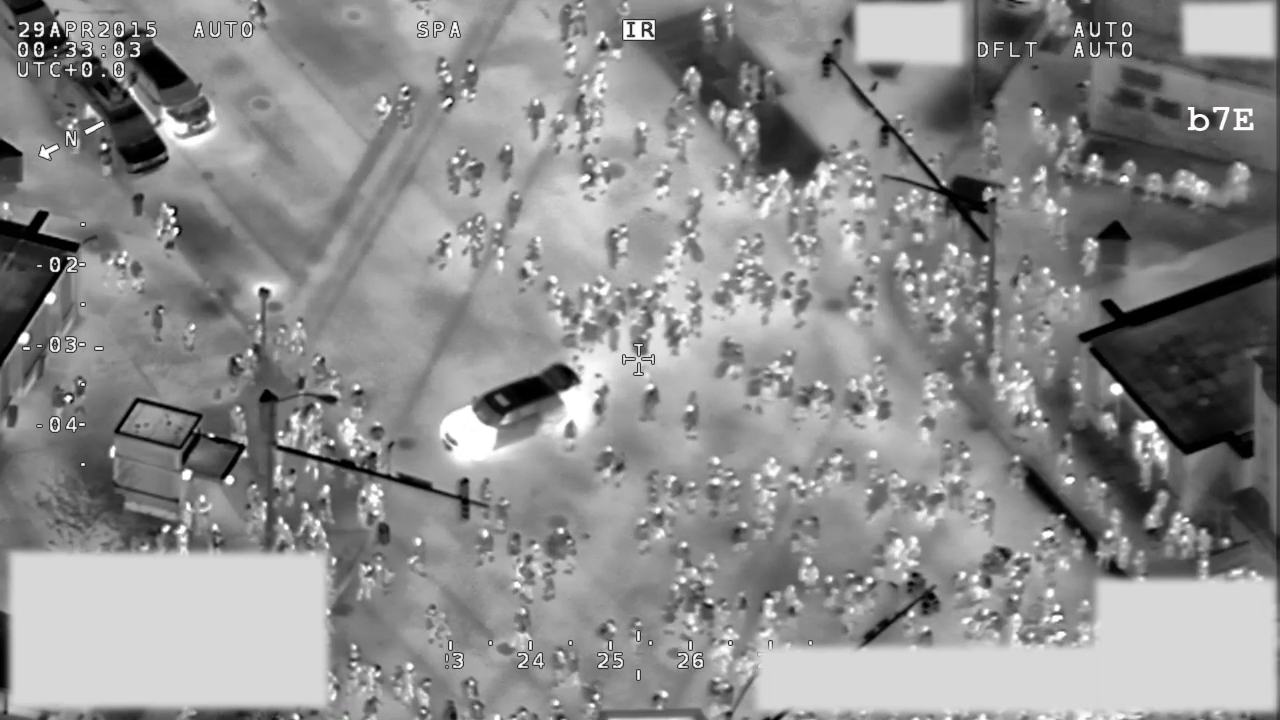vehicle: (427, 357, 605, 470), (44, 49, 177, 182), (109, 21, 224, 146)
